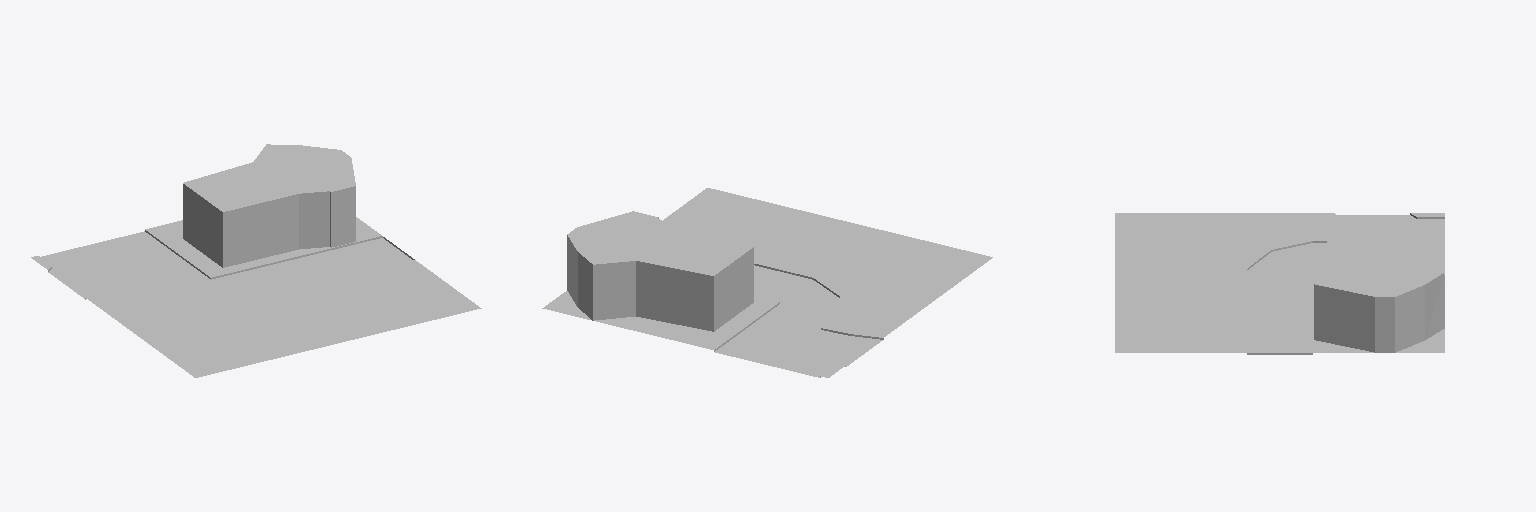
Rendered from 05_carls_n.obj.
3 views of the same model, side by side, from view 1: azimuth 30°, elevation 25°; view 2: azimuth 150°, elevation 25°; view 3: azimuth 270°, elevation 25° (orthographic).
Visible parts, largest first — view 1: 05_carls_n_Grid.003; view 2: 05_carls_n_Grid.003; view 3: 05_carls_n_Grid.003.
Part boxes in pixels (bbox=[...]): 05_carls_n_Grid.003: bbox=[31, 144, 481, 377]; 05_carls_n_Grid.003: bbox=[542, 188, 992, 377]; 05_carls_n_Grid.003: bbox=[1115, 213, 1444, 354].
Bounding box in the file's own units: 16 × 3.08 × 16.